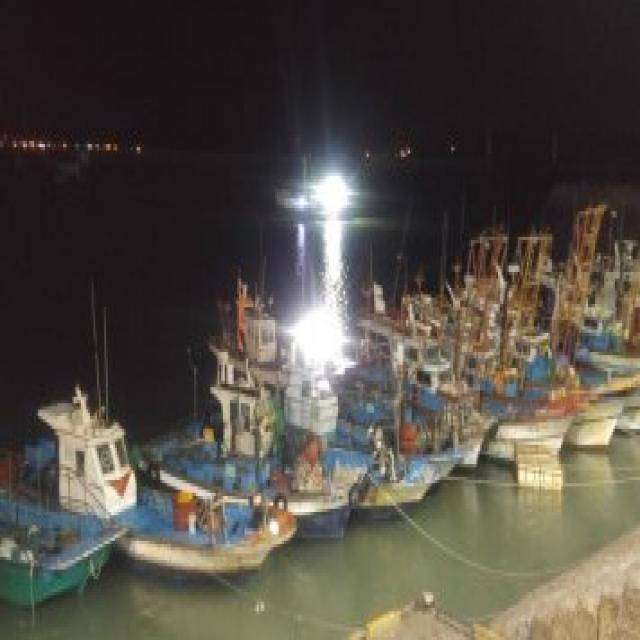Ship: (8, 369, 283, 587)
